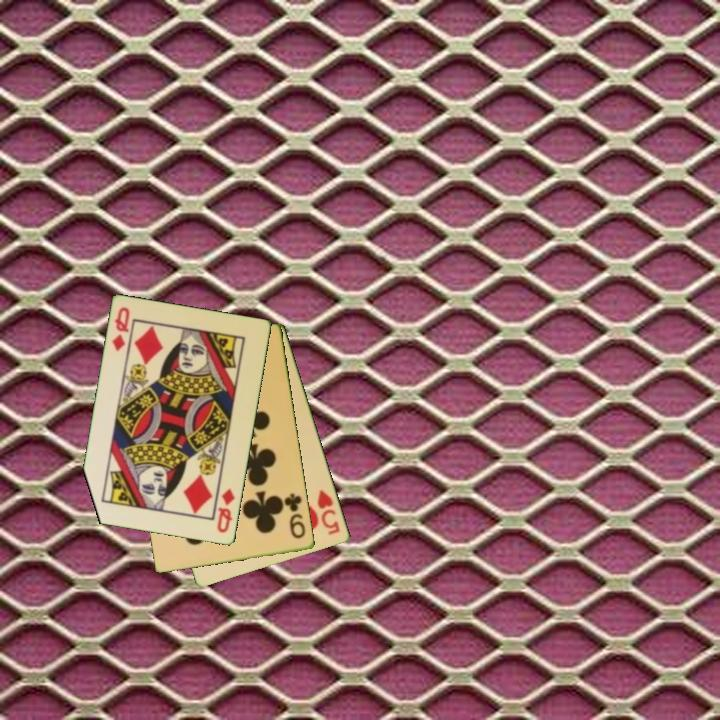5h: (314, 486, 343, 538)
9c: (281, 490, 309, 542)
Qd: (214, 485, 238, 536), (109, 304, 133, 354)
